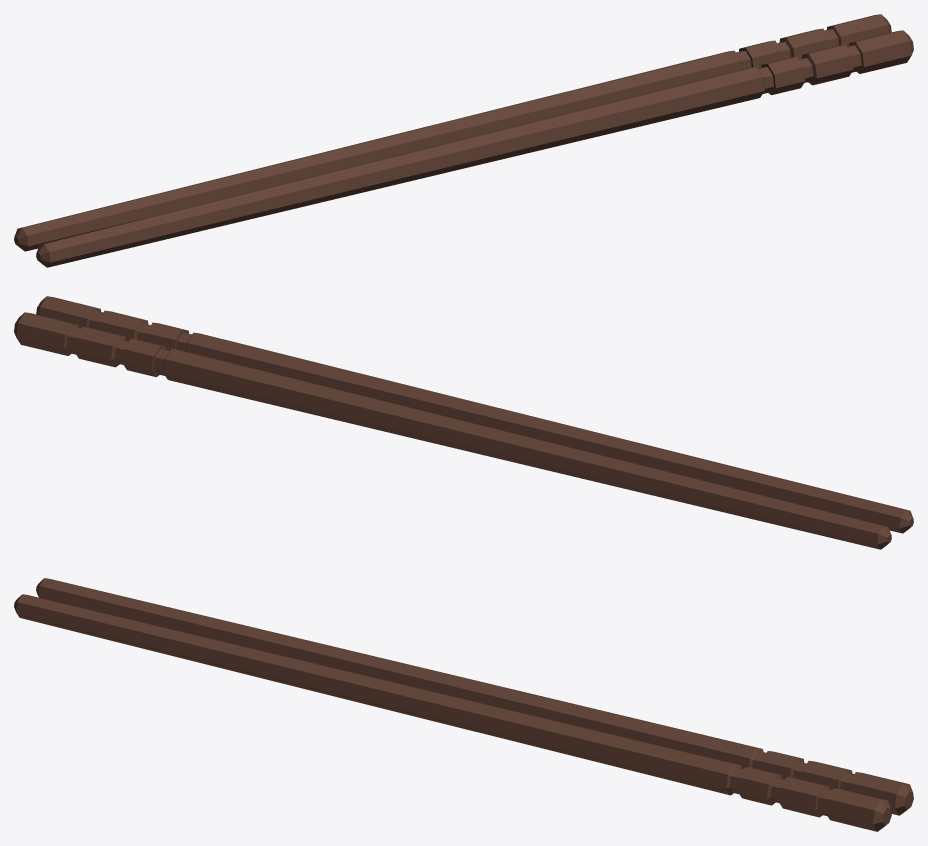
Rendered from Chopsticks.glb.
3 views of the same model, one above another, from view 1: azimuth 30°, elevation 25°; view 2: azimuth 150°, elevation 25°; view 3: azimuth 330°, elevation 25° (orthographic).
Parts seen in each view (by area): view 1: Chopsticks; view 2: Chopsticks; view 3: Chopsticks.
Boxes of the visible parts, x1,y1,x2,y2 form: Chopsticks: (14, 14, 913, 267); Chopsticks: (14, 296, 913, 549); Chopsticks: (14, 578, 913, 831).
Size of the model in its own units: 1.63 by 0.0532 by 0.1261.
